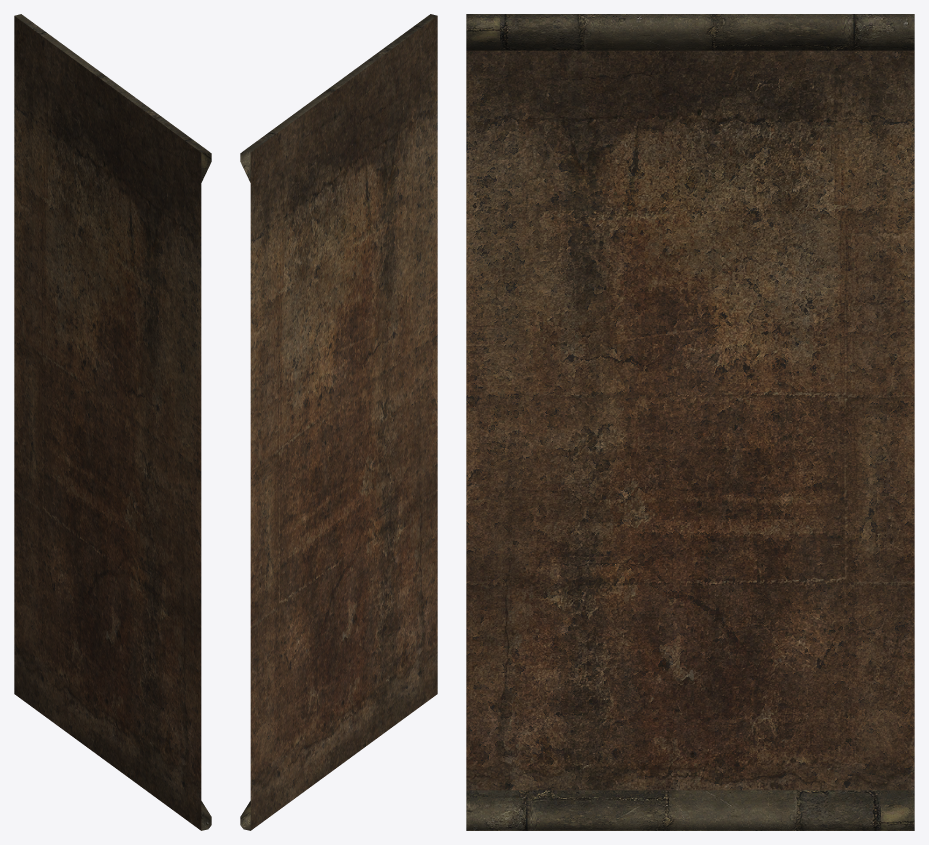
Rendered from NC_wall_extension_short.DAE.
3 renders of one model, left to right at view 1: azimuth 30°, elevation 25°; view 2: azimuth 150°, elevation 25°; view 3: azimuth 270°, elevation 25°, orthographic. The views are drawn at different scales.
Parts seen in each view (by area): view 1: NC_wall_extension_short, NC_wall_extension_short_details; view 2: NC_wall_extension_short, NC_wall_extension_short_details; view 3: NC_wall_extension_short, NC_wall_extension_short_details.
Boxes of the visible parts, x1,y1,x2,y2 form: NC_wall_extension_short: (14,16,201,830); NC_wall_extension_short_details: (14,14,211,830); NC_wall_extension_short: (250,16,437,830); NC_wall_extension_short_details: (240,14,437,830); NC_wall_extension_short: (466,50,914,790); NC_wall_extension_short_details: (466,14,914,830).
Bounding box in the file's own units: 0.0635 × 2 × 4.
